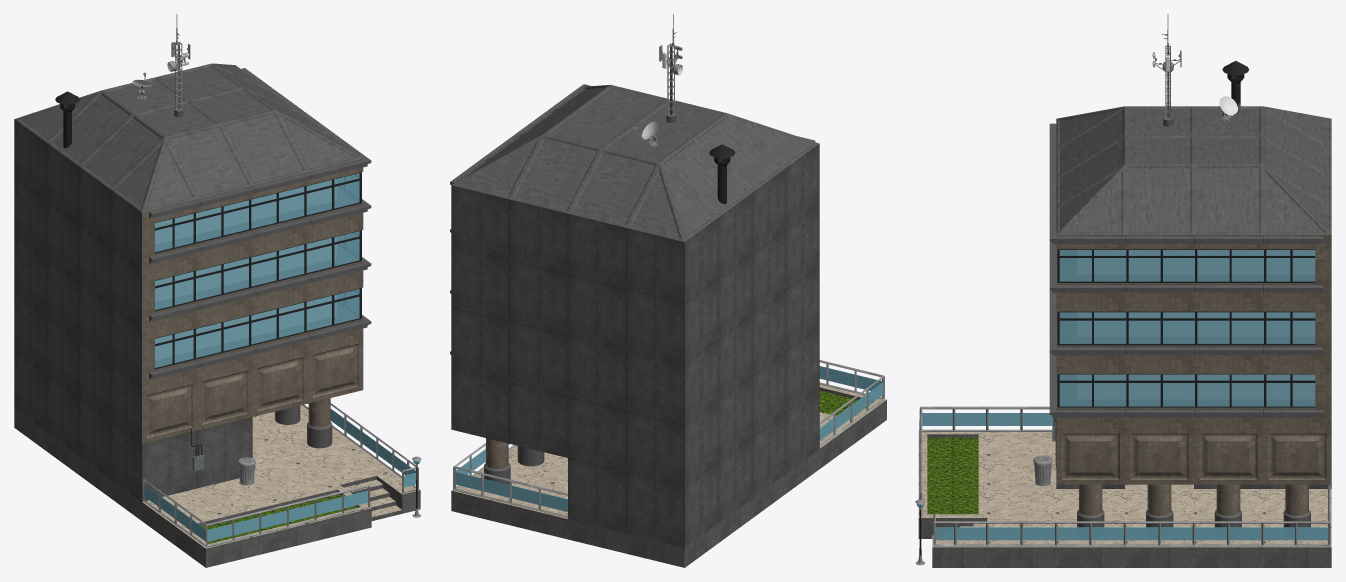
The model's file is Building_Small_DownTown6.obj.
3 renders of one model, left to right at view 1: azimuth 30°, elevation 25°; view 2: azimuth 150°, elevation 25°; view 3: azimuth 270°, elevation 25°, orthographic. The views are drawn at different scales.
Parts seen in each view (by area): view 1: Building_Small_DownTown6_Building_Small_DownTown6_Mesh.001_Cemen, Building_Small_DownTown6_Building_Small_DownTown6_Mesh.001_Metal, Building_Small_DownTown6_Building_Small_DownTown6_Mesh.001_Stone, Building_Small_DownTown6_Building_Small_DownTown6_Mesh.001_Glass, Building_Small_DownTown6_Building_Small_DownTown6_Mesh.001_Marbl, Building_Small_DownTown6_Building_Small_DownTown6_Mesh.001_Epoxy, Building_Small_DownTown6_Building_Small_DownTown6_Mesh.001_Grass; view 2: Building_Small_DownTown6_Building_Small_DownTown6_Mesh.001_Cemen, Building_Small_DownTown6_Building_Small_DownTown6_Mesh.001_Metal, Building_Small_DownTown6_Building_Small_DownTown6_Mesh.001_Glass, Building_Small_DownTown6_Building_Small_DownTown6_Mesh.001_Marbl, Building_Small_DownTown6_Building_Small_DownTown6_Mesh.001_Stone, Building_Small_DownTown6_Building_Small_DownTown6_Mesh.001_Grass; view 3: Building_Small_DownTown6_Building_Small_DownTown6_Mesh.001_Metal, Building_Small_DownTown6_Building_Small_DownTown6_Mesh.001_Stone, Building_Small_DownTown6_Building_Small_DownTown6_Mesh.001_Glass, Building_Small_DownTown6_Building_Small_DownTown6_Mesh.001_Cemen, Building_Small_DownTown6_Building_Small_DownTown6_Mesh.001_Marbl, Building_Small_DownTown6_Building_Small_DownTown6_Mesh.001_Epoxy, Building_Small_DownTown6_Building_Small_DownTown6_Mesh.001_Grass.
Boxes of the visible parts, x1,y1,x2,y2 form: Building_Small_DownTown6_Building_Small_DownTown6_Mesh.001_Cemen: [14, 68, 420, 567]; Building_Small_DownTown6_Building_Small_DownTown6_Mesh.001_Metal: [14, 14, 421, 547]; Building_Small_DownTown6_Building_Small_DownTown6_Mesh.001_Stone: [142, 158, 363, 443]; Building_Small_DownTown6_Building_Small_DownTown6_Mesh.001_Glass: [144, 173, 420, 541]; Building_Small_DownTown6_Building_Small_DownTown6_Mesh.001_Marbl: [142, 405, 419, 548]; Building_Small_DownTown6_Building_Small_DownTown6_Mesh.001_Epoxy: [132, 41, 336, 359]; Building_Small_DownTown6_Building_Small_DownTown6_Mesh.001_Grass: [189, 494, 357, 543]; Building_Small_DownTown6_Building_Small_DownTown6_Mesh.001_Cemen: [450, 84, 886, 567]; Building_Small_DownTown6_Building_Small_DownTown6_Mesh.001_Metal: [451, 14, 884, 517]; Building_Small_DownTown6_Building_Small_DownTown6_Mesh.001_Glass: [455, 366, 883, 511]; Building_Small_DownTown6_Building_Small_DownTown6_Mesh.001_Marbl: [452, 384, 886, 518]; Building_Small_DownTown6_Building_Small_DownTown6_Mesh.001_Stone: [486, 438, 508, 468]; Building_Small_DownTown6_Building_Small_DownTown6_Mesh.001_Grass: [819, 390, 871, 417]; Building_Small_DownTown6_Building_Small_DownTown6_Mesh.001_Metal: [915, 14, 1331, 565]; Building_Small_DownTown6_Building_Small_DownTown6_Mesh.001_Stone: [1055, 235, 1331, 515]; Building_Small_DownTown6_Building_Small_DownTown6_Mesh.001_Glass: [916, 250, 1328, 540]; Building_Small_DownTown6_Building_Small_DownTown6_Mesh.001_Cemen: [918, 116, 1331, 567]; Building_Small_DownTown6_Building_Small_DownTown6_Mesh.001_Marbl: [918, 431, 1331, 547]; Building_Small_DownTown6_Building_Small_DownTown6_Mesh.001_Epoxy: [1077, 50, 1314, 398]; Building_Small_DownTown6_Building_Small_DownTown6_Mesh.001_Grass: [927, 437, 978, 514].
Size of the model in its own units: 12.39 by 23.24 by 18.14.
Materials: 13 (11 with a texture image).
